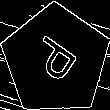P_SE: (26, 31, 86, 89)
